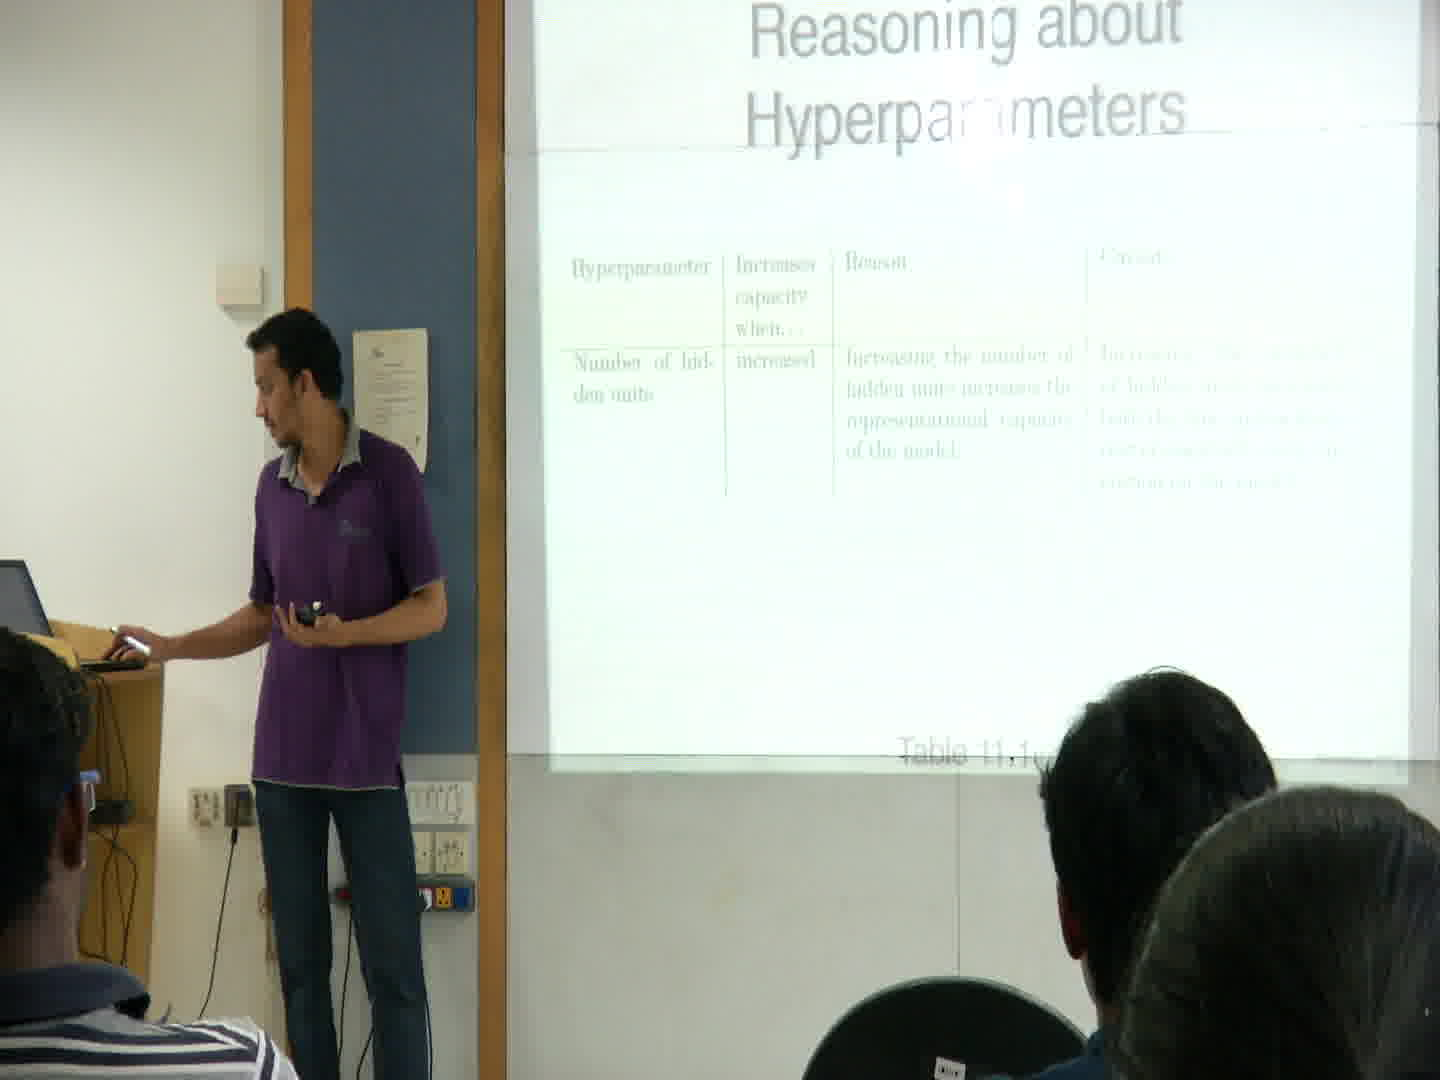slide: (533, 1, 1414, 781)
